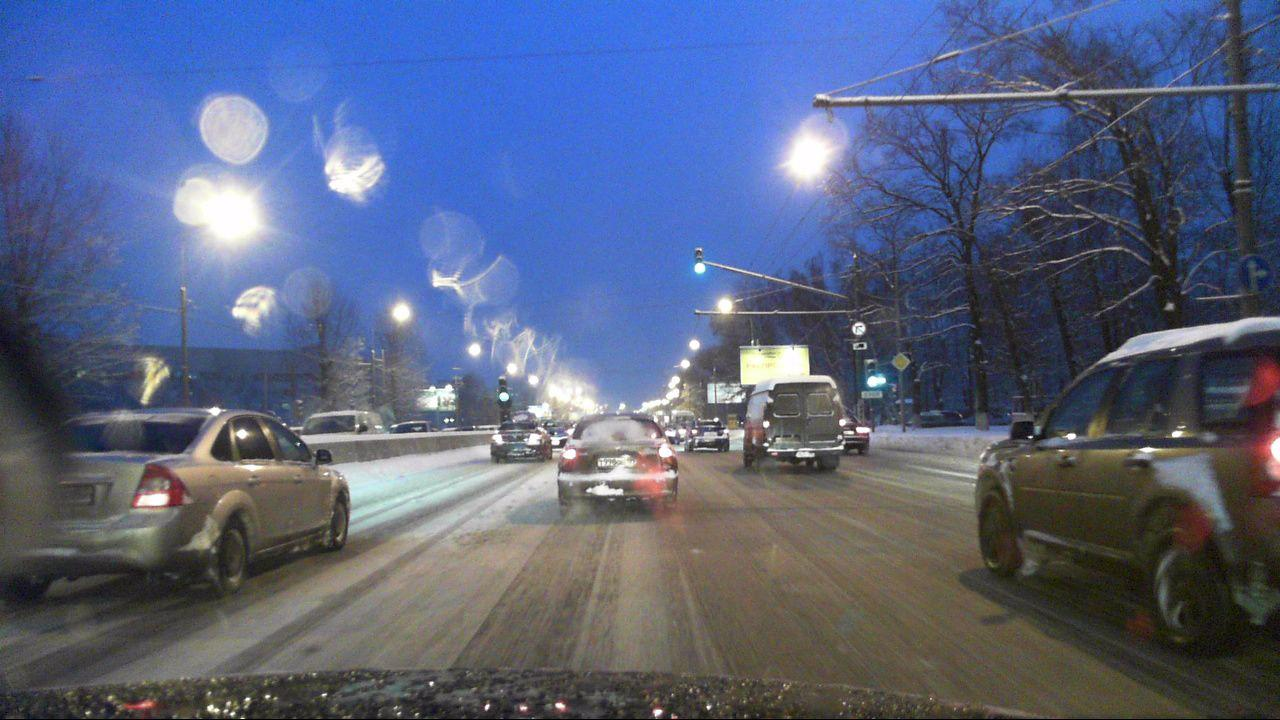2_1: (891, 351, 911, 371)
3_18_1: (849, 319, 868, 337)
6_16: (860, 390, 886, 401)
8_4_1: (853, 342, 868, 350)
